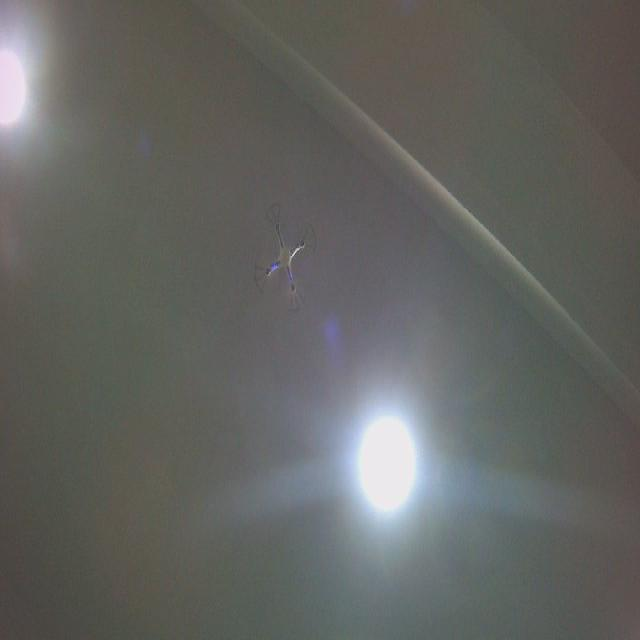drone: (250, 195, 321, 317)
